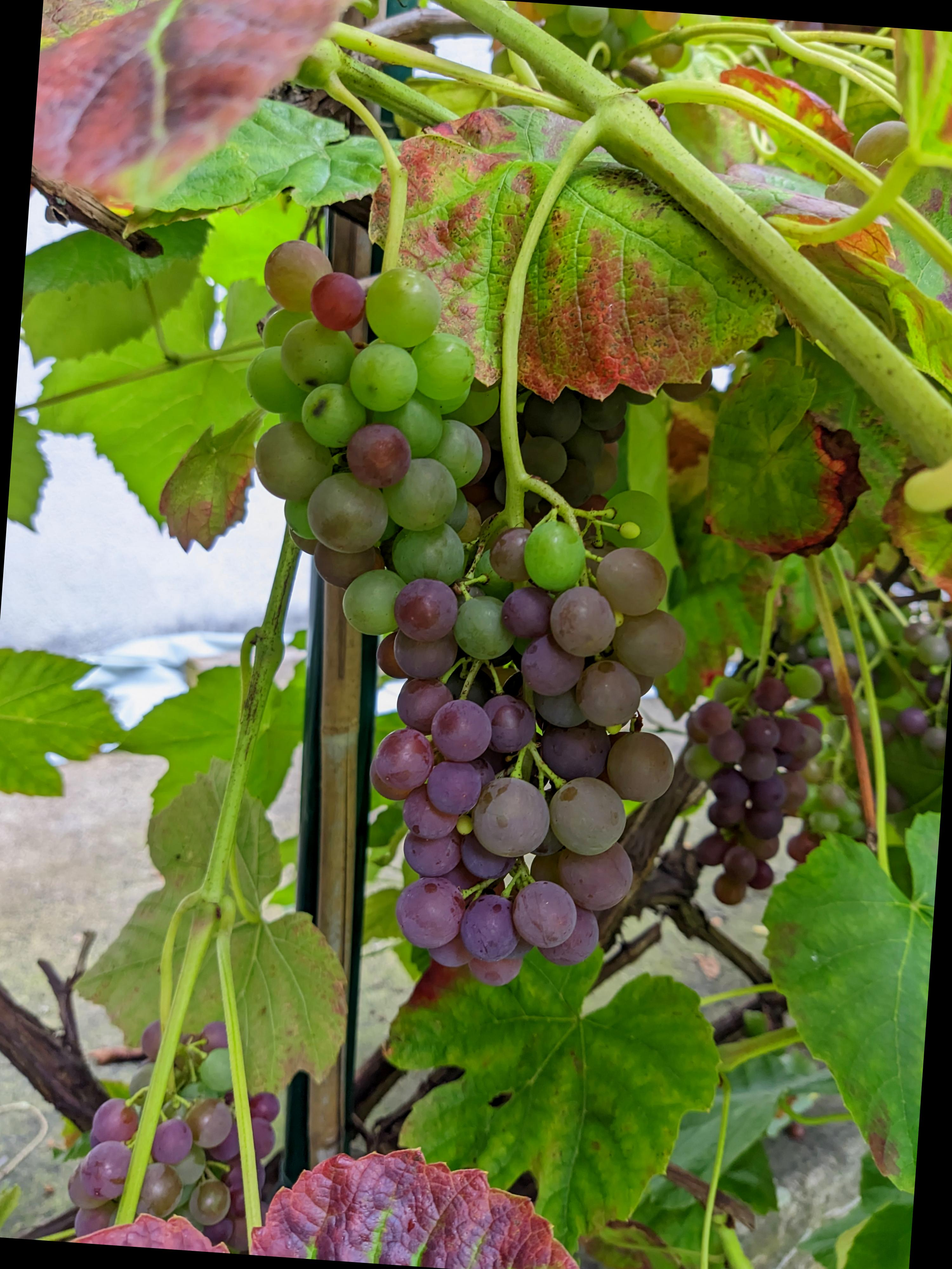Grape Unripe: (262, 215, 556, 847), (385, 463, 744, 972), (110, 973, 334, 1226), (720, 599, 871, 882)
